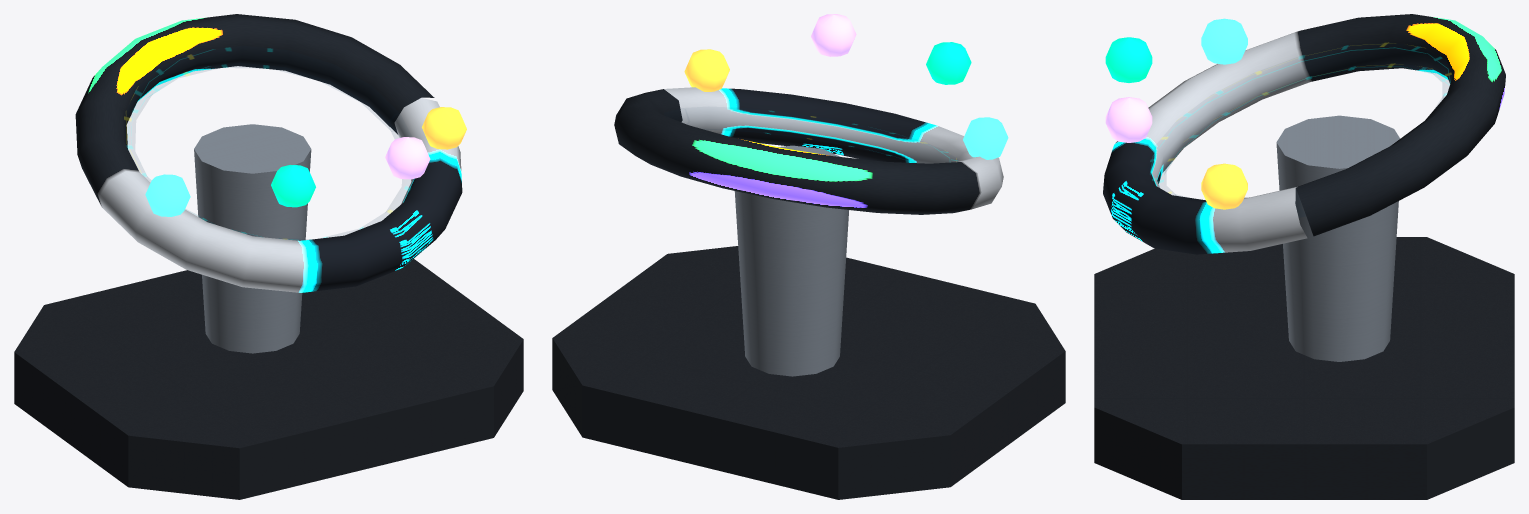
Rendered from prop_pickup_bci_headband.glb.
3 renders of one model, left to right at view 1: azimuth 30°, elevation 25°; view 2: azimuth 150°, elevation 25°; view 3: azimuth 270°, elevation 25°, orthographic. The views are drawn at different scales.
Visible parts, largest first — view 1: BCIHeadband_Root; view 2: BCIHeadband_Root; view 3: BCIHeadband_Root.
Part boxes in pixels (bbox=[...]): BCIHeadband_Root: bbox=[14, 14, 523, 499]; BCIHeadband_Root: bbox=[552, 14, 1065, 499]; BCIHeadband_Root: bbox=[1094, 14, 1514, 499].
Size of the model in its own units: 0.28 by 0.2127 by 0.24.
8 materials, 8 textured.
